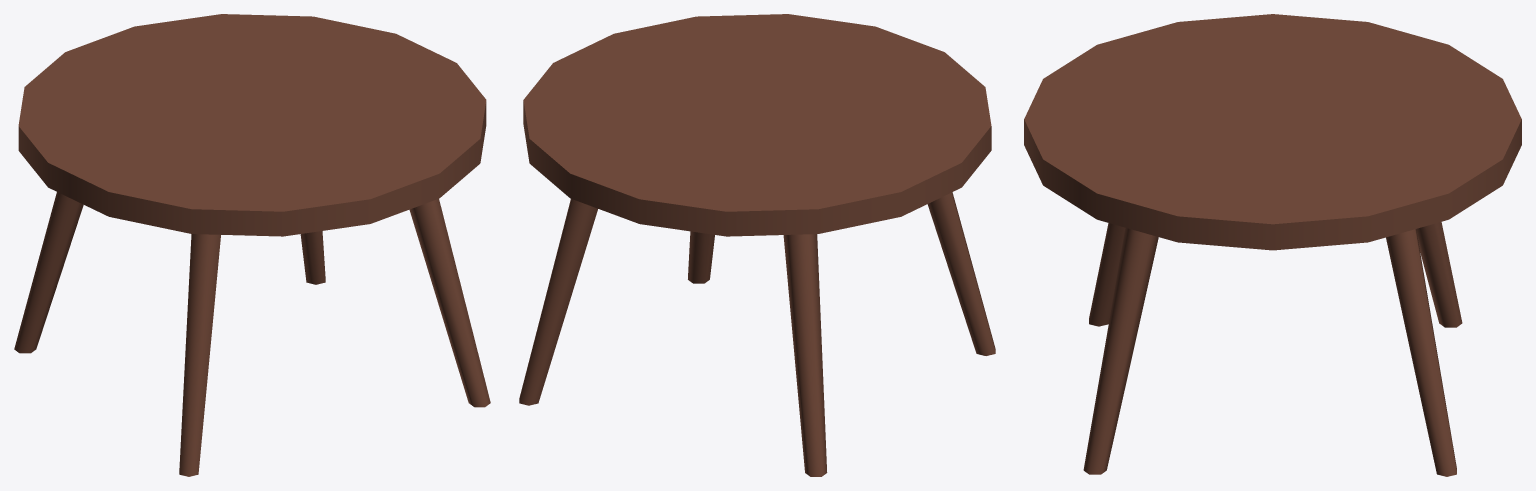
File: CoffeeTable_01.fbx
3 renders of one model, left to right at view 1: azimuth 30°, elevation 25°; view 2: azimuth 150°, elevation 25°; view 3: azimuth 270°, elevation 25°, orthographic. The views are drawn at different scales.
Parts seen in each view (by area): view 1: CoffeeTable_01; view 2: CoffeeTable_01; view 3: CoffeeTable_01.
Boxes of the visible parts, x1=… form: CoffeeTable_01: x1=14, y1=14, x2=490, y2=476; CoffeeTable_01: x1=519, y1=14, x2=995, y2=476; CoffeeTable_01: x1=1024, y1=14, x2=1521, y2=476.
Bounding box in the file's own units: 0.8308 × 0.5116 × 0.8308.
